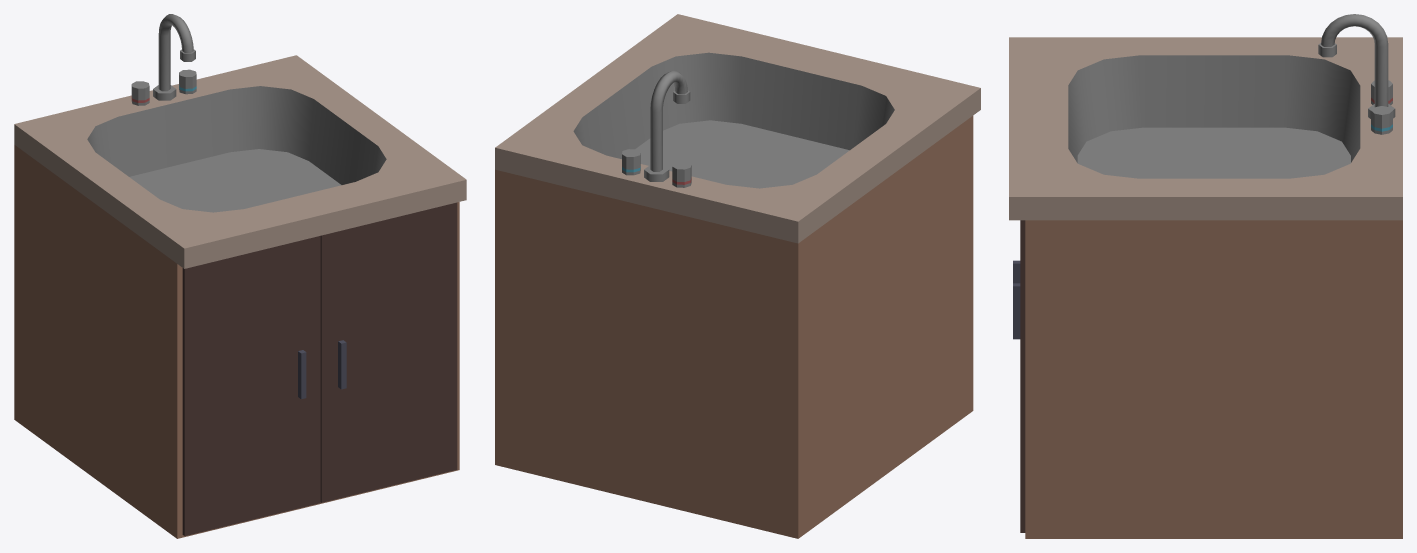
The model's file is Counter01_sink.fbx.
The picture shows the model from 3 angles, left to right: view 1: azimuth 30°, elevation 25°; view 2: azimuth 150°, elevation 25°; view 3: azimuth 270°, elevation 25°; orthographic projection. The views are drawn at different scales.
Parts seen in each view (by area): view 1: Cube.050; view 2: Cube.050; view 3: Cube.050.
Part boxes in pixels (bbox=[...]): Cube.050: bbox=[14, 14, 466, 538]; Cube.050: bbox=[495, 14, 980, 538]; Cube.050: bbox=[1009, 14, 1402, 538].
Bounding box in the file's own units: 100 × 130 × 104.
